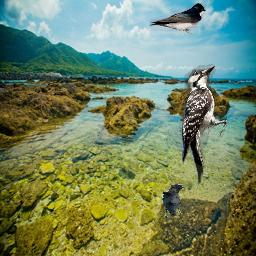Crow: (162, 183, 186, 221)
Swallow: (149, 3, 206, 34)
Woodpecker: (178, 63, 227, 187)
